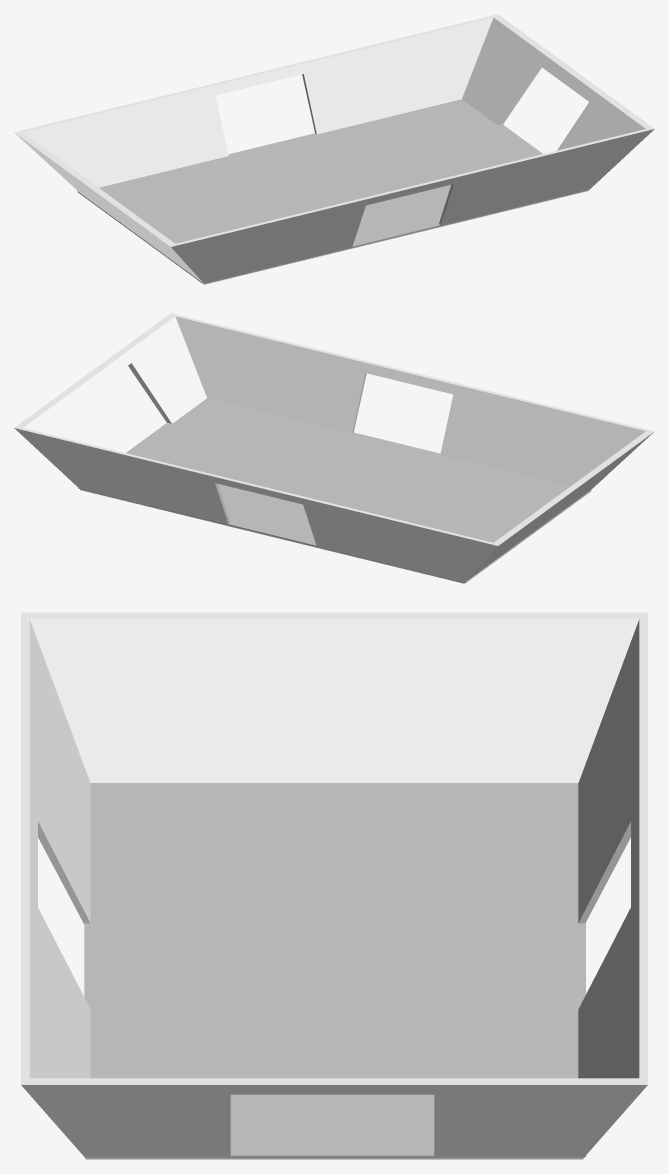
Rendered from RightTopBottom.fbx.
The picture shows the model from 3 angles, top to bottom: view 1: azimuth 30°, elevation 25°; view 2: azimuth 150°, elevation 25°; view 3: azimuth 270°, elevation 25°; orthographic projection. The views are drawn at different scales.
Visible parts, largest first — view 1: Room13, Piso1; view 2: Room13, Piso1; view 3: Room13, Piso1.
Boxes of the visible parts, left/top/right/bottom form: Room13: left=14, top=14, right=654, bottom=284; Piso1: left=77, top=99, right=589, bottom=283; Room13: left=14, top=313, right=654, bottom=583; Piso1: left=78, top=398, right=591, bottom=582; Room13: left=21, top=612, right=647, bottom=1159; Piso1: left=84, top=783, right=585, bottom=1157.
Size of the model in its own units: 4100 by 500 by 2300.
